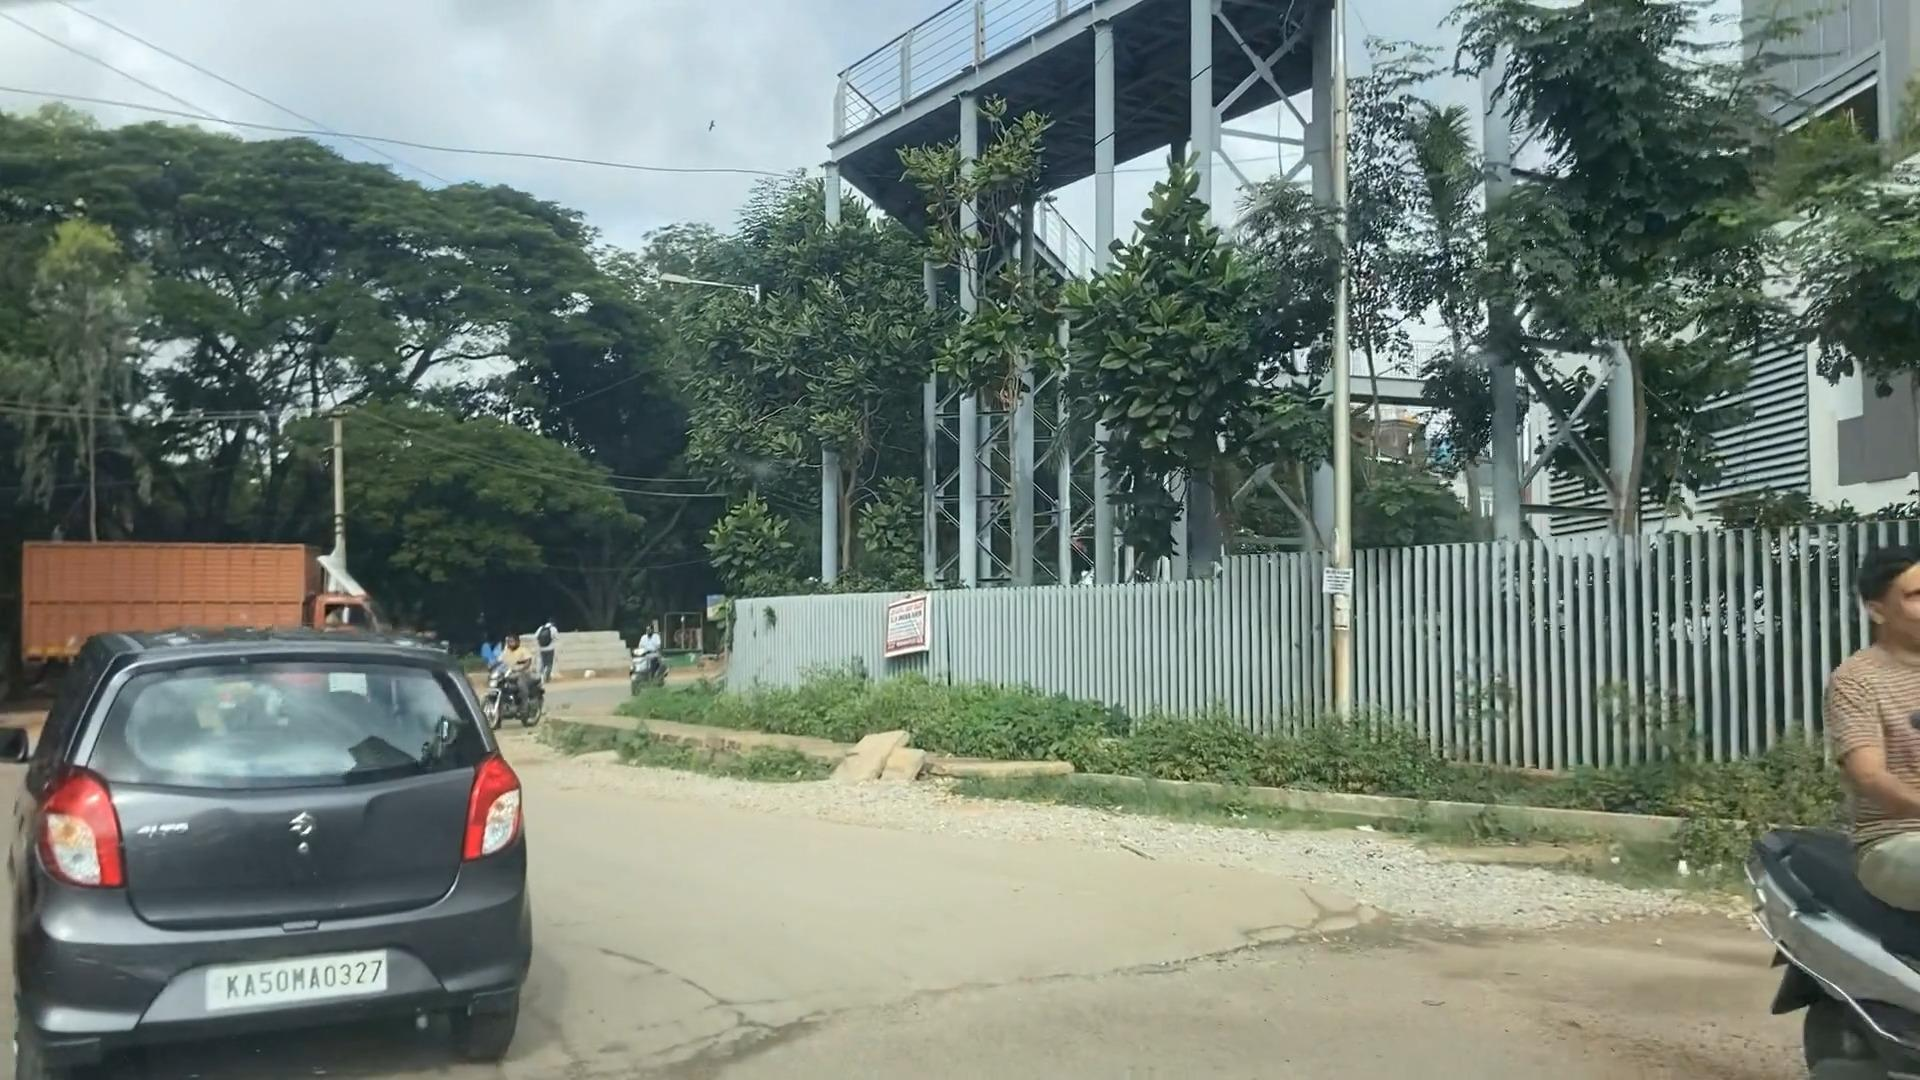LMV: (36, 622, 509, 1071), (483, 634, 554, 728)
RoadDamages: (620, 901, 1369, 1079)
